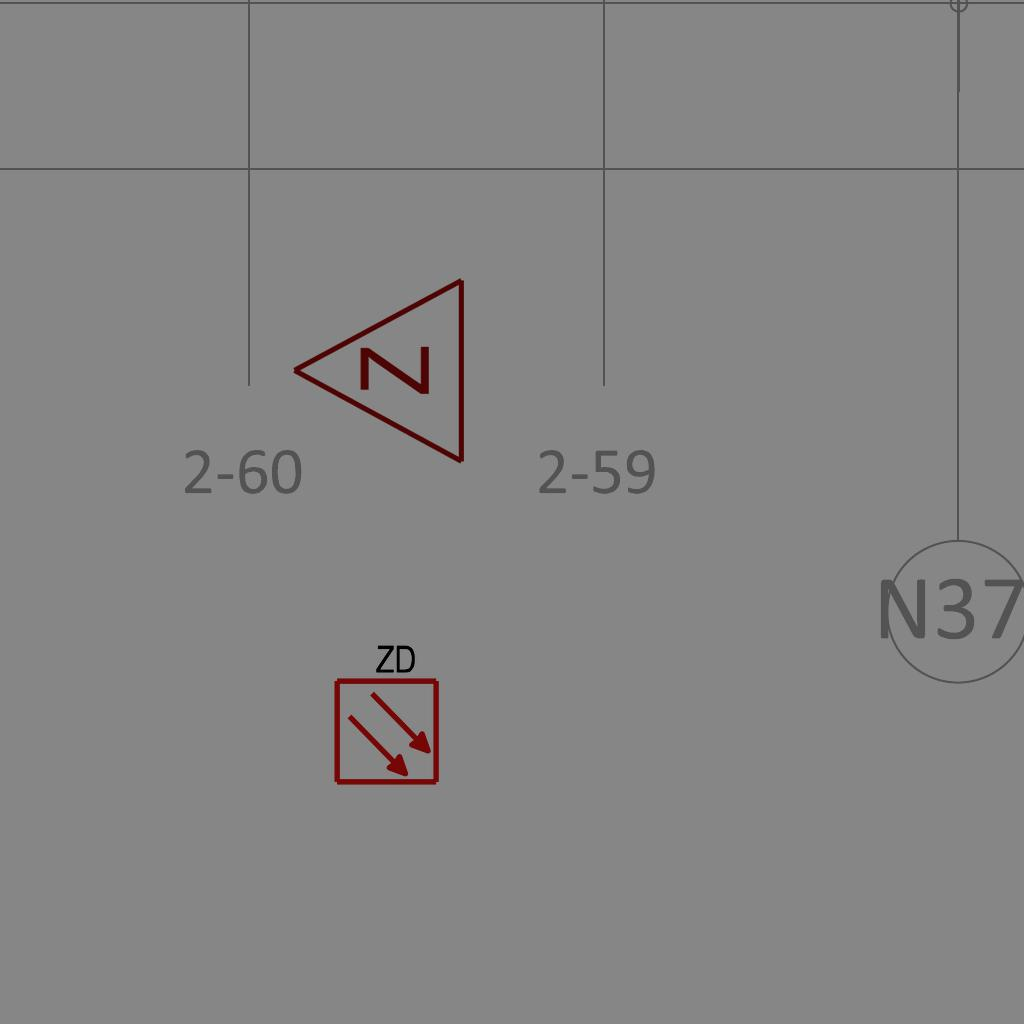ZD_Melder_in_Zwischendecke_mit_Revisionsoeffnung_mind_40_x_40_cm: (328, 638, 442, 787)
Zimmersignalleuchte: (279, 275, 479, 471)
